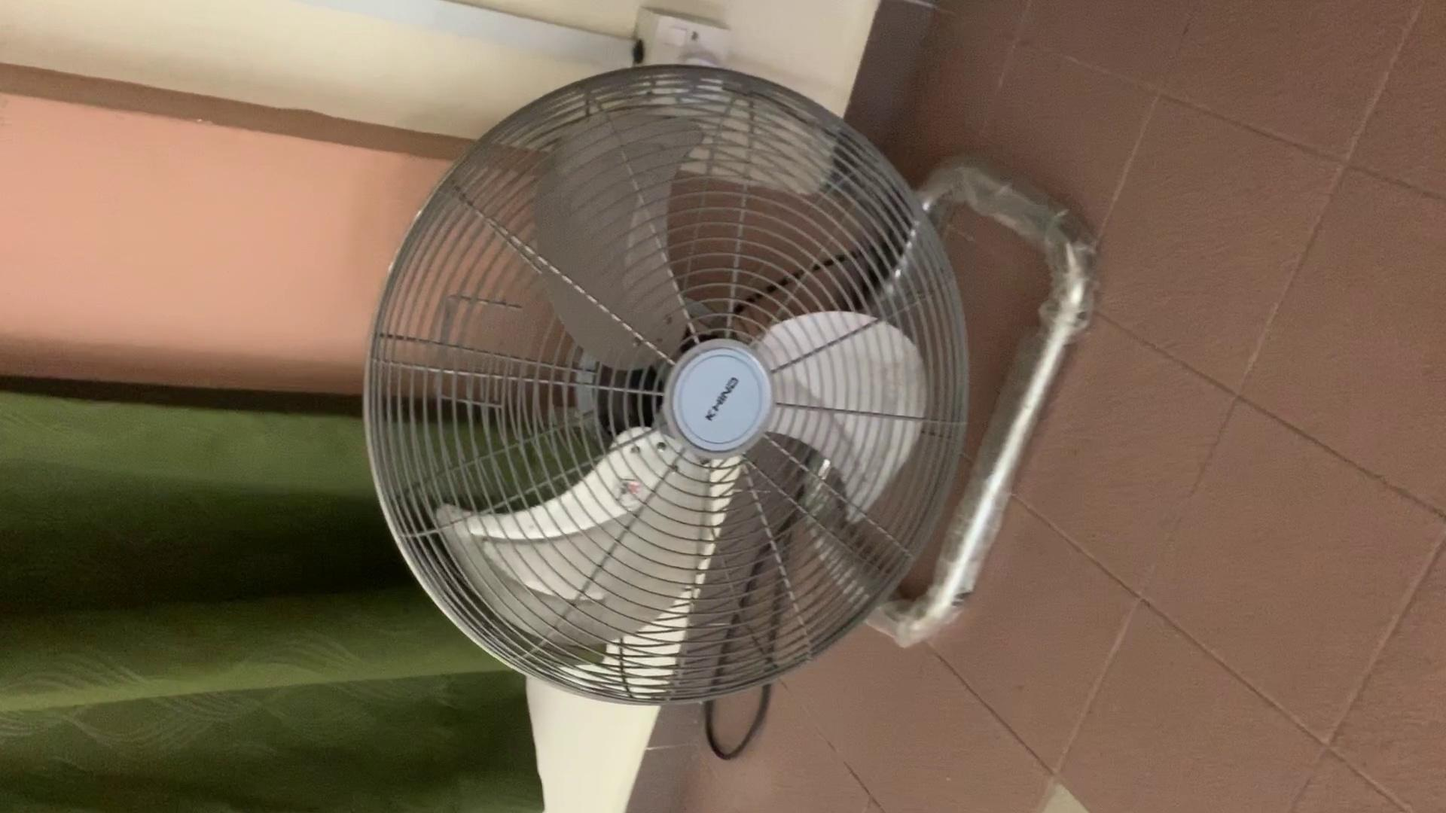fan: (320, 79, 1033, 731)
